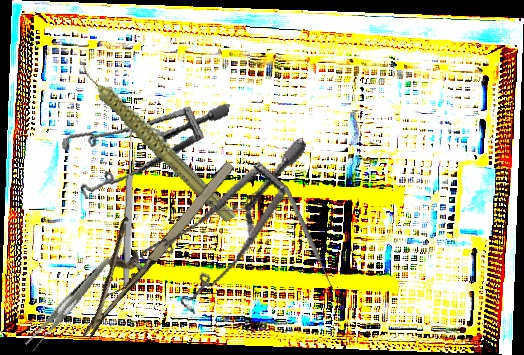Dressing Forceps: (8, 257, 131, 353)
Handpiece: (77, 34, 239, 247)
Hook Surgical: (282, 184, 341, 293)
Needle Holder: (47, 135, 240, 341)
Speculum: (124, 102, 308, 332), (52, 72, 230, 224)
Surgical Spoon: (121, 128, 137, 287)
